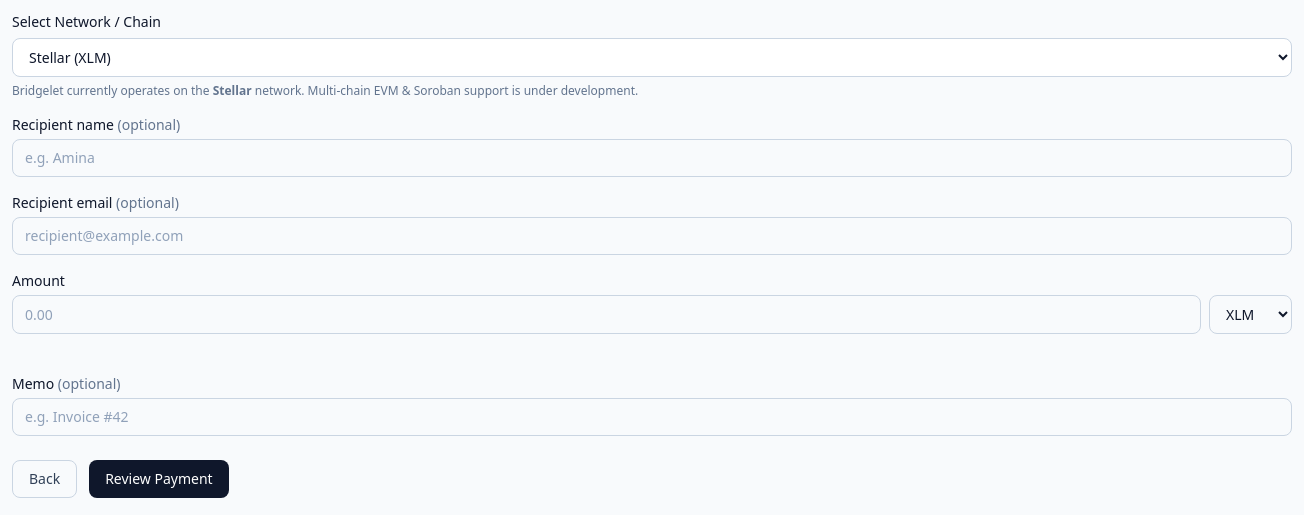
Test: DetailsStep › shows a real-time USD conversion for XLM amounts
This screenshot has width=1304, height=515.
Type "10" into the number field labelled "Amount". click: (606, 314)
box: [12, 295, 1201, 334]
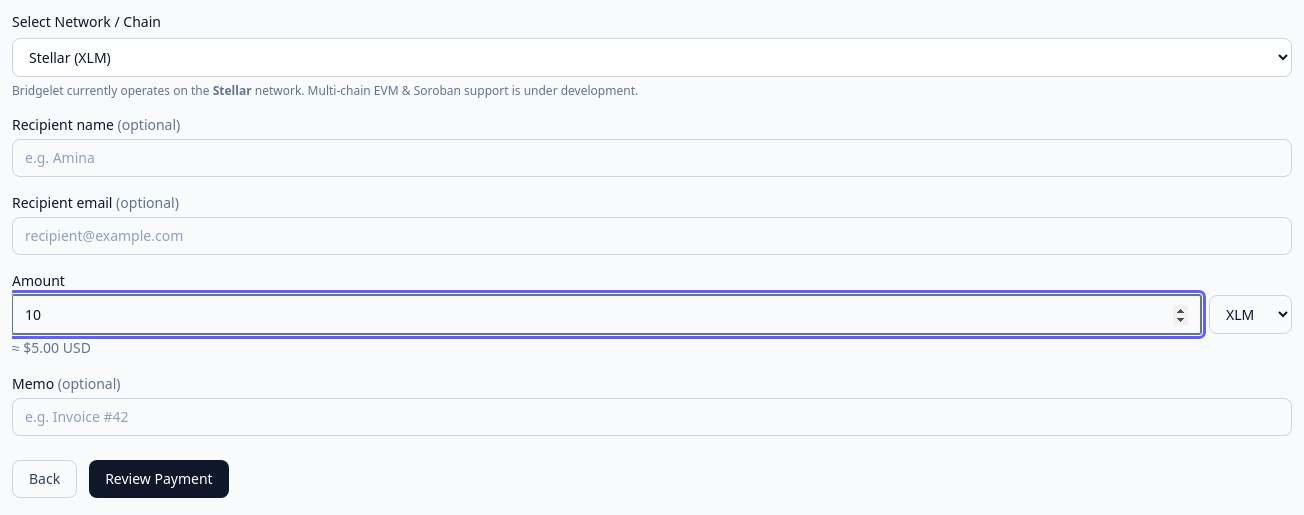
Expected: the text "≈ $5.00 USD" is shown, [12, 337, 275, 357]
